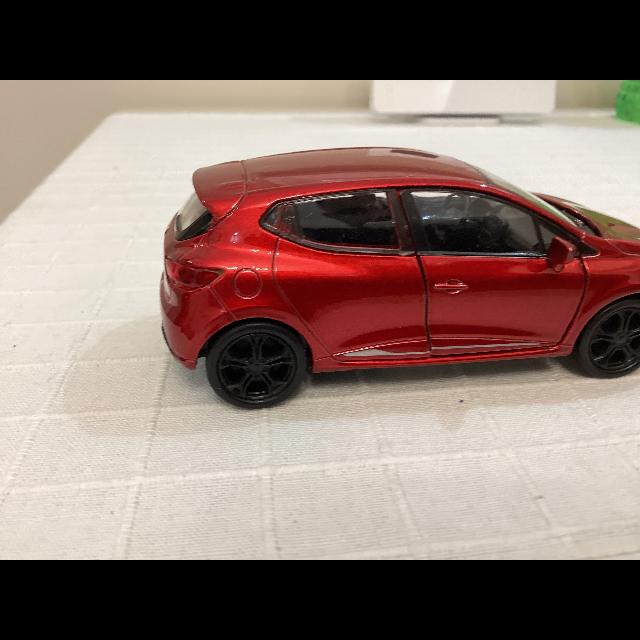Dogru_Jant: (217, 333, 295, 399), (587, 306, 639, 369)
